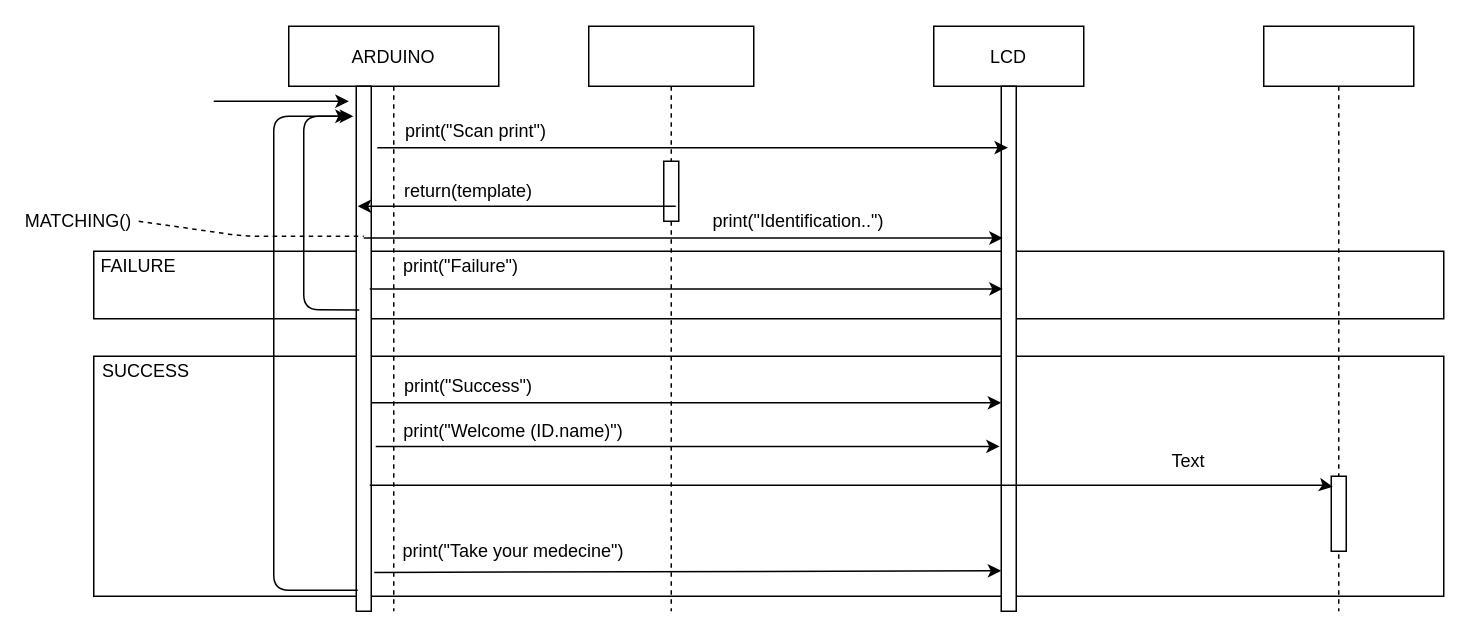
Some shapes in this 1470 by 638 pixel diagram are drawn without their labels. Here are the shapes that lost their labels. From the top down, the box of each, then its label:
(587, 25, 754, 611): FINGER PRINT SENSOR
(1262, 25, 1414, 611): MOTORS
